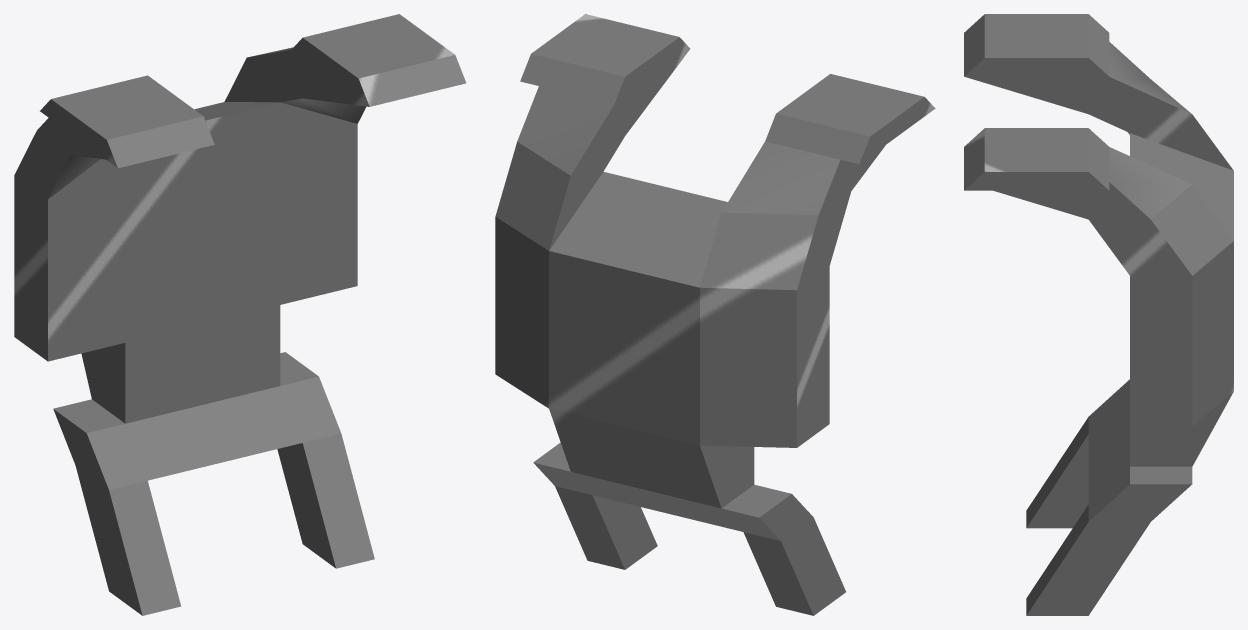
The model's file is Chest-Soldier-Back.obj.
3 renders of one model, left to right at view 1: azimuth 30°, elevation 25°; view 2: azimuth 150°, elevation 25°; view 3: azimuth 270°, elevation 25°, orthographic. The views are drawn at different scales.
Visible parts, largest first — view 1: Chest-Soldier-Back; view 2: Chest-Soldier-Back; view 3: Chest-Soldier-Back.
Boxes of the visible parts, bbox=[...] form: Chest-Soldier-Back: bbox=[14, 14, 466, 615]; Chest-Soldier-Back: bbox=[495, 14, 935, 615]; Chest-Soldier-Back: bbox=[964, 14, 1233, 615].
Size of the model in its own units: 2.25 by 3.13 by 1.62.
